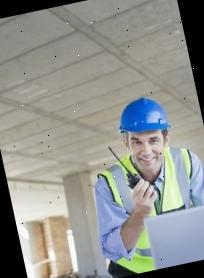helmet: (114, 92, 173, 141)
wear: (88, 144, 204, 278)
